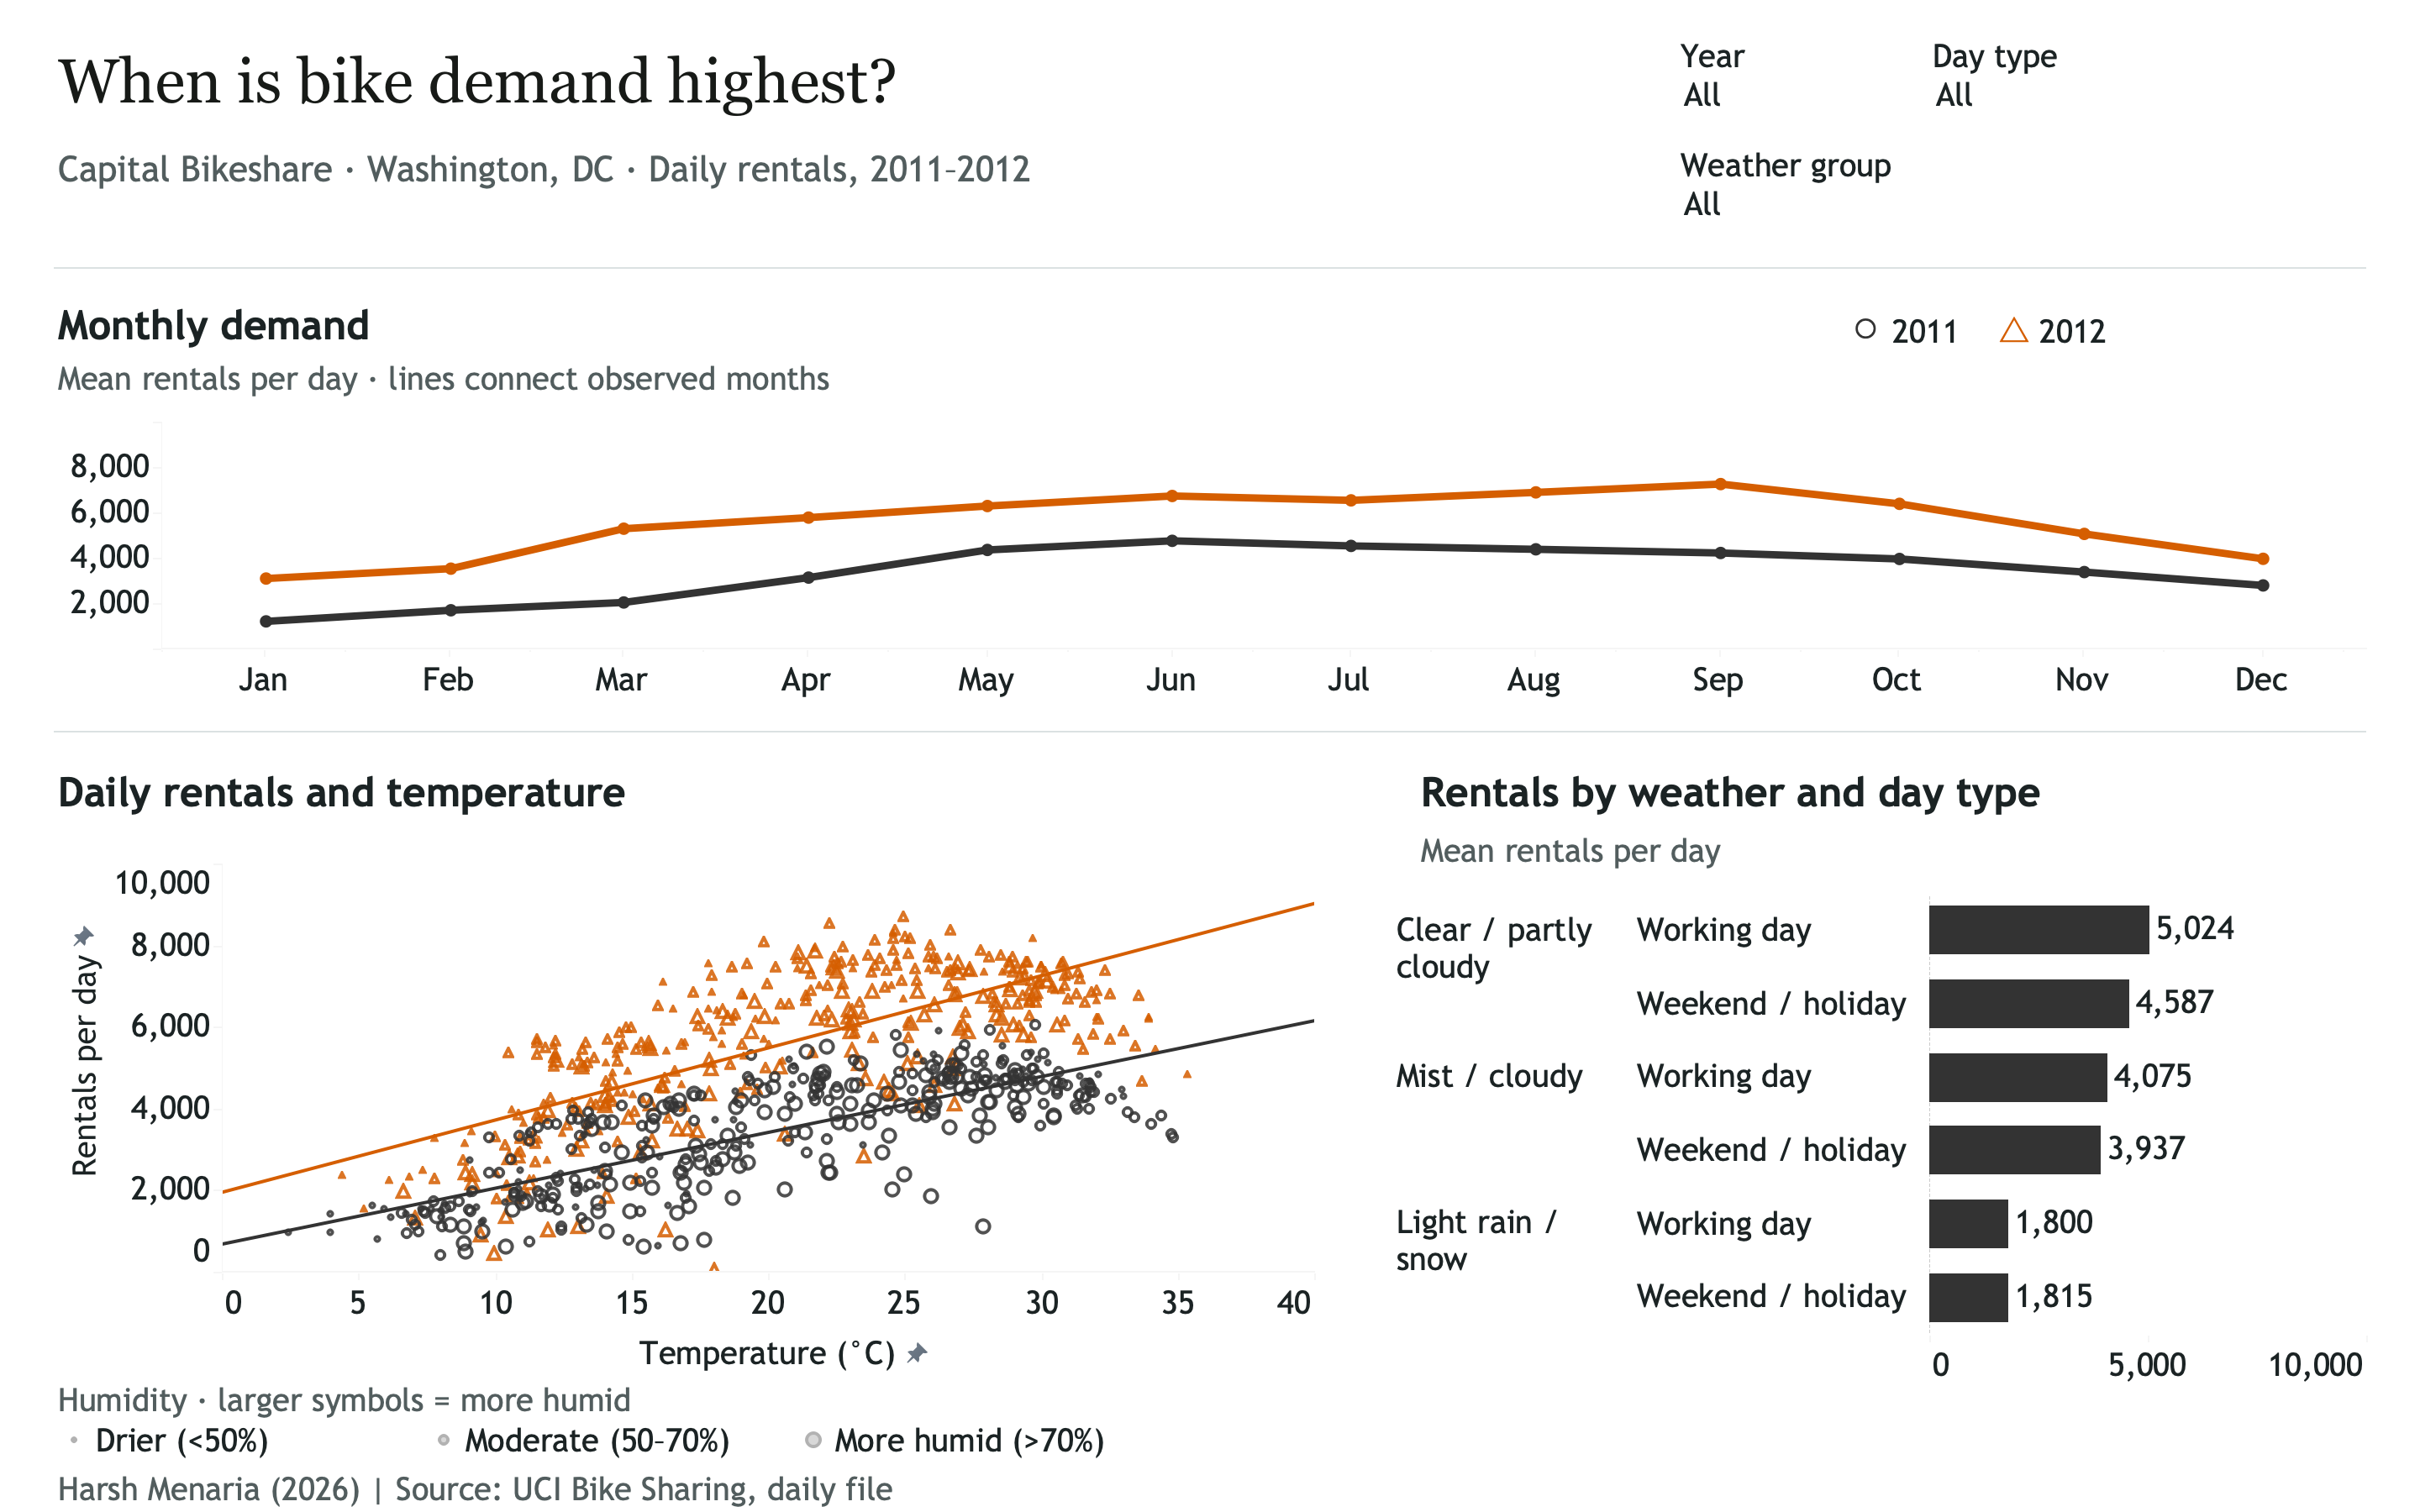

The dashboard page shown, as its layout file describes it:
{"tool":"tableau","page":{"name":"Bike demand | Prototype","canvas":[1440,900],"ordinal":0},"visuals":[{"type":"blank","box":[0,0,1440,900]},{"type":"filter","title":"01 Monthly demand","param":"[federated.bike_demand].[none:Year:nk]","box":[1000,21,180,54]},{"type":"filter","title":"01 Monthly demand","param":"[federated.bike_demand].[none:DayType:nk]","box":[1200,21,208,54]},{"type":"text","box":[32,23,925,52]},{"type":"text","box":[32,86,925,30]},{"type":"filter","title":"02 Temperature and rentals","param":"[federated.bike_demand].[none:Calculation_1907443823489024:nk]","box":[1000,86,180,54]},{"type":"filter","title":"01 Monthly demand","param":"[federated.bike_demand].[none:Weather:nk]","box":[1200,86,208,54]},{"type":"blank","box":[32,159,1376,1]},{"type":"text","box":[1100,178,308,34]},{"type":"text","box":[32,179,1376,29]},{"type":"text","box":[32,214,1376,24]},{"type":"worksheet","title":"01 Monthly demand","mark":"Line","rows":["DailyRentals"],"cols":["Calculation_1435546893139968"],"box":[32,251,1376,165]},{"type":"blank","box":[32,435,1376,1]},{"type":"text","box":[32,457,750,29]},{"type":"text","box":[843,457,565,29]},{"type":"text","box":[843,492,565,30]},{"type":"worksheet","title":"02 Temperature and rentals","mark":"Shape","rows":["DailyRentals"],"cols":["TemperatureC"],"box":[32,514,750,310]},{"type":"worksheet","title":"03 Weather and day type","mark":"Bar","rows":["Weather","DayType"],"cols":["DailyRentals"],"box":[825,532,583,292]},{"type":"text","box":[32,819,600,30]},{"type":"text","box":[32,846,216,35]},{"type":"text","box":[252,846,223.2,35]},{"type":"text","box":[475.2,846,302.4,35]},{"type":"text","box":[32,875,1376,23]}]}

Visuals, with their boxes in screenshot pixels (x1, y1, x2, y2), scaled from the page's 1440x900 canvas onto the 2420x1512 screenshot:
blank: 0:0:2419:1511
"01 Monthly demand" filter: 1681:35:1983:126
"01 Monthly demand" filter: 2017:35:2366:126
text: 54:39:1608:126
text: 54:144:1608:195
"02 Temperature and rentals" filter: 1681:144:1983:235
"01 Monthly demand" filter: 2017:144:2366:235
blank: 54:267:2366:269
text: 1849:299:2366:356
text: 54:301:2366:349
text: 54:360:2366:400
"01 Monthly demand" worksheet (Line marks): 54:422:2366:699
blank: 54:731:2366:732
text: 54:768:1314:816
text: 1417:768:2366:816
text: 1417:827:2366:877
"02 Temperature and rentals" worksheet (Shape marks): 54:864:1314:1384
"03 Weather and day type" worksheet (Bar marks): 1386:894:2366:1384
text: 54:1376:1062:1426
text: 54:1421:417:1480
text: 423:1421:798:1480
text: 798:1421:1307:1480
text: 54:1470:2366:1509
